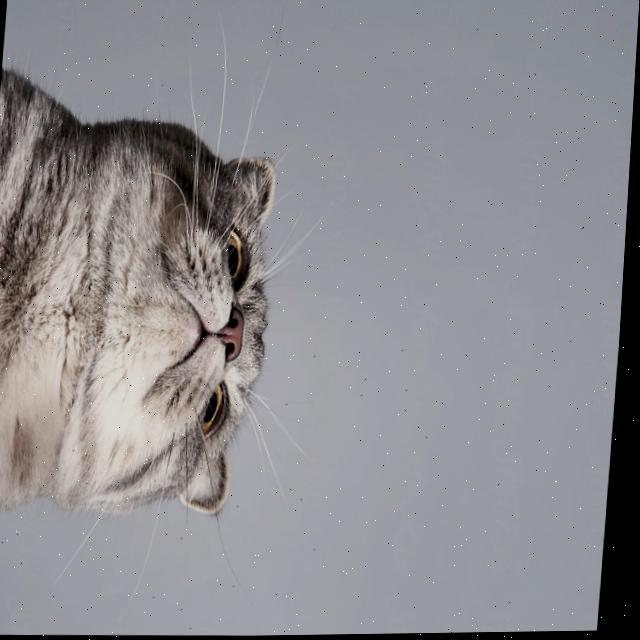Scottish Fold: (0, 50, 295, 539)
